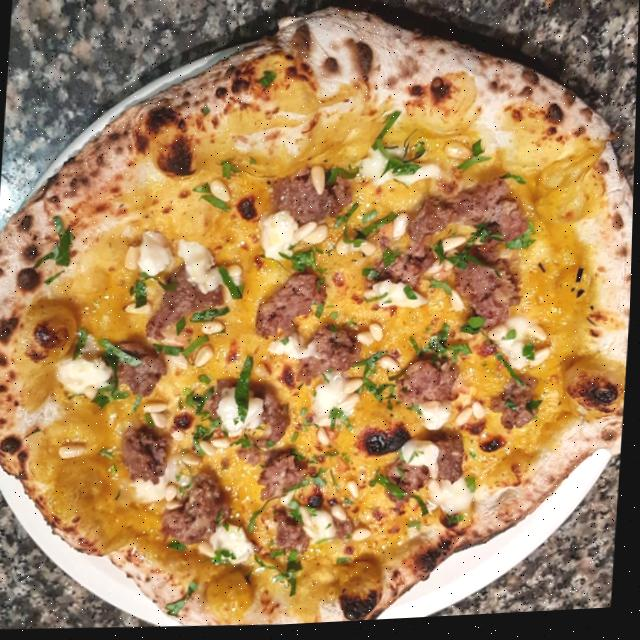basil: (366, 114, 429, 186), (33, 211, 80, 272), (335, 204, 396, 250), (354, 355, 396, 413), (437, 243, 495, 278), (430, 323, 472, 368), (276, 247, 327, 282), (233, 355, 256, 431), (96, 337, 145, 369), (216, 262, 248, 304), (455, 143, 492, 176), (370, 472, 409, 501), (329, 409, 354, 435)
pizza: (0, 0, 640, 640)
